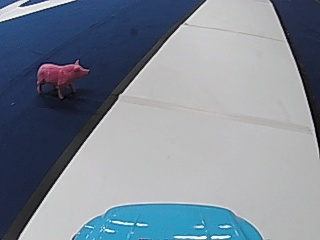pig: (34, 56, 90, 98)
